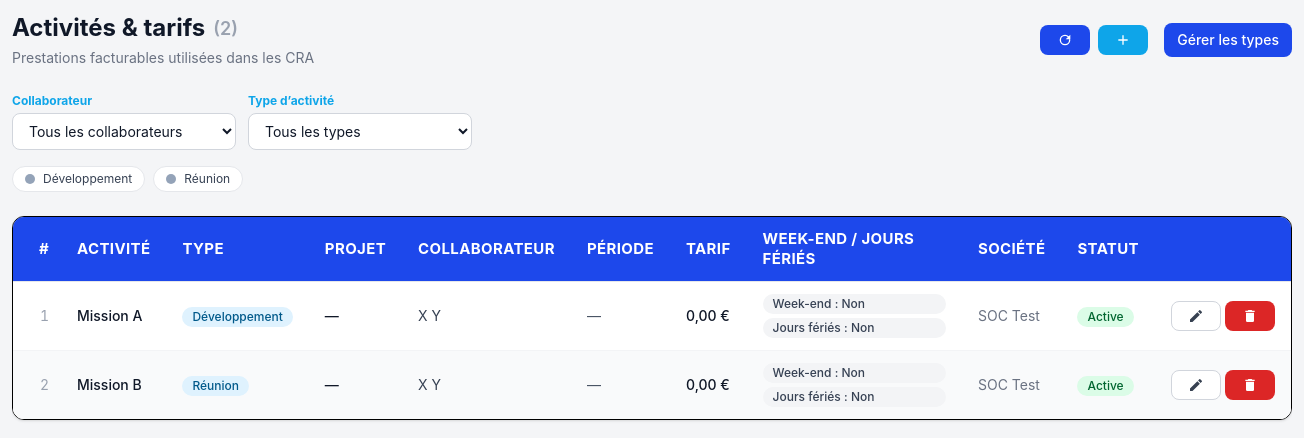
Activities — ajout selon le rôle › filtre les activités par collaborateur et par type
The image size is (1304, 438).
Expected: the text "Mission A" is shown, [77, 306, 150, 326]
Expected: the text "Mission B" is shown, [77, 375, 150, 395]
Select "Alice Martin" in the 1st dropdown at (124, 132), box [12, 113, 236, 150]
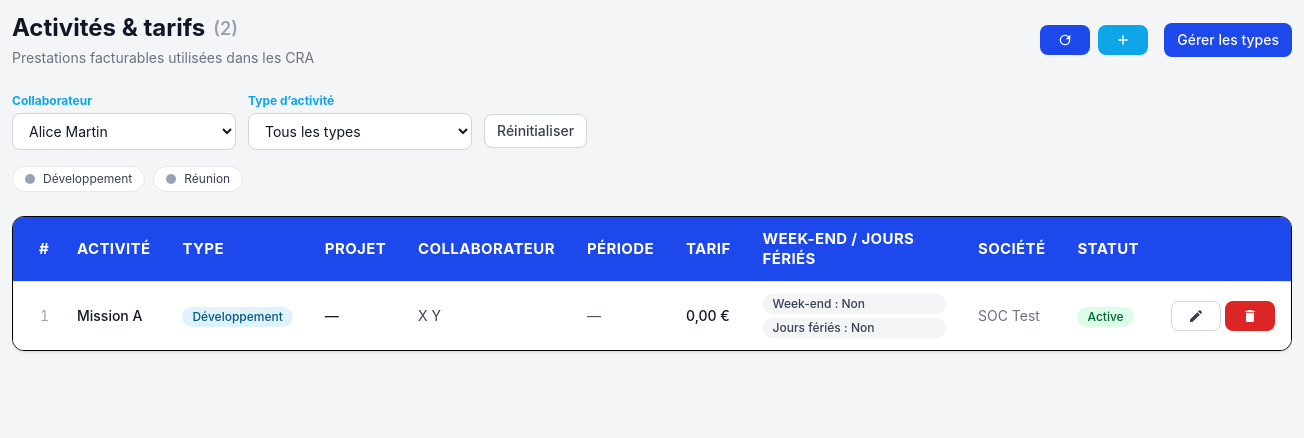
Expected: the text "Mission A" is shown, [77, 306, 150, 326]
Result: the text "Mission B" is gone
Select "Tous les collaborateurs" in the 1st dropdown at (124, 132), box [12, 113, 236, 150]
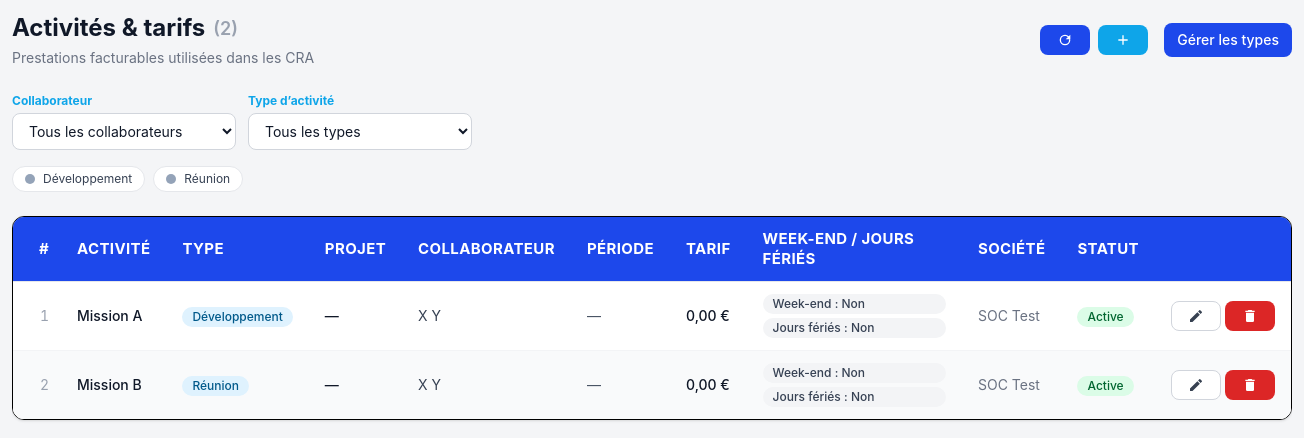
Select "Réunion" in the dropdown below "Type d’activité" at (360, 132), box [248, 113, 472, 150]
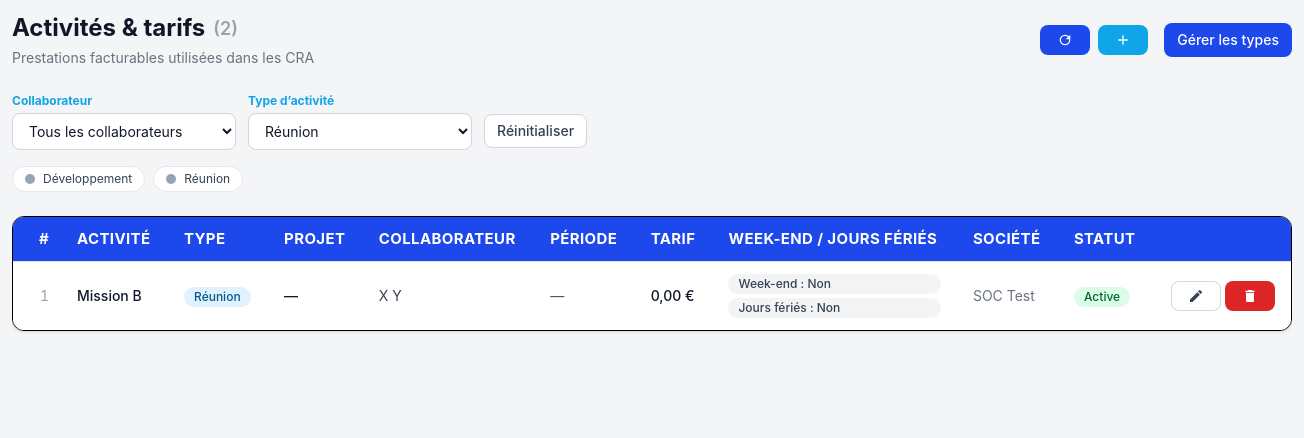
Result: the text "Mission B" is shown at [77, 286, 152, 306]
Result: the text "Mission A" is gone
